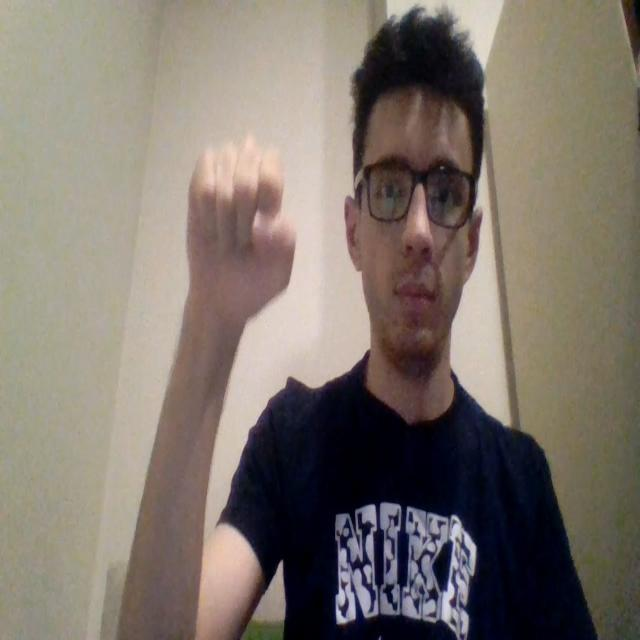yes: (185, 132, 297, 336)
